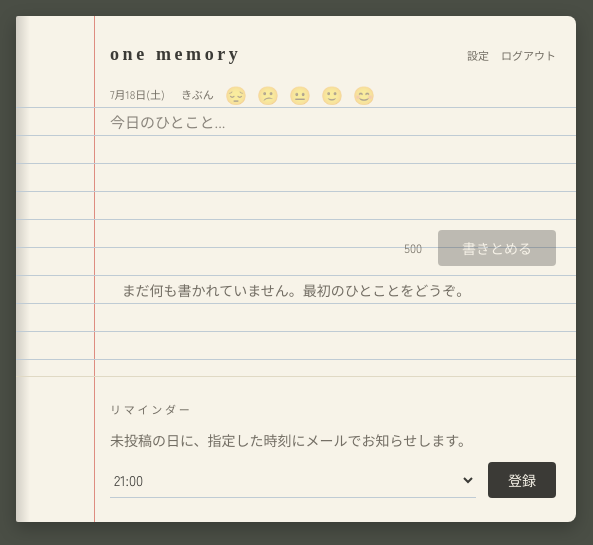
it: App › リマインダー › 登録するとnotify_hourが渡され成功メッセージが表示される
Click the button "登録": {"x": 522, "y": 480} x1=488 y1=462 x2=556 y2=498
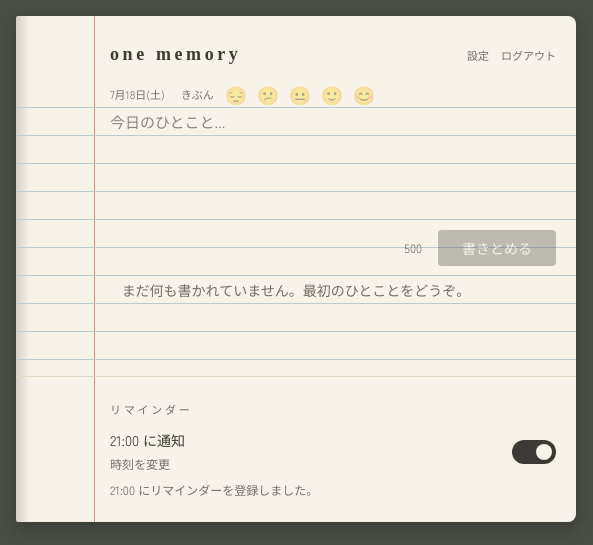
Check: the text "21:00 にリマインダーを登録しました。" is shown, box x1=110 y1=480 x2=318 y2=498
